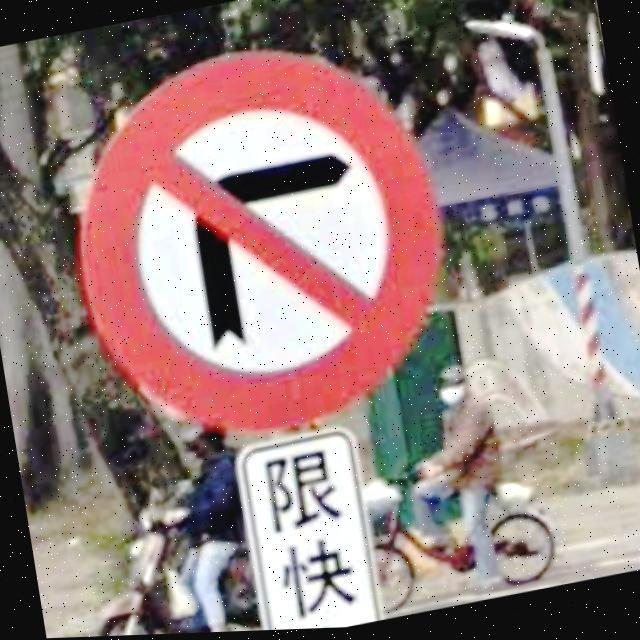noturnright: (79, 54, 444, 437)
